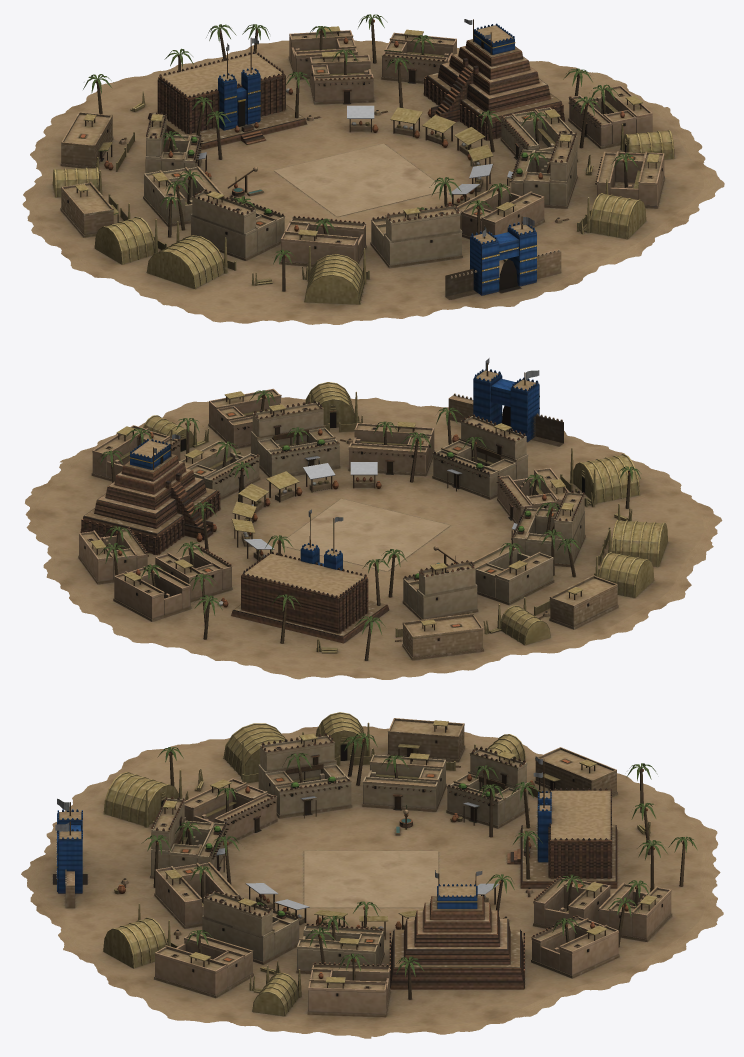
Rendered from classical-town-big-b-mesopotamia.glb.
3 renders of one model, top to bottom at view 1: azimuth 30°, elevation 25°; view 2: azimuth 150°, elevation 25°; view 3: azimuth 270°, elevation 25°, orthographic. The views are drawn at different scales.
Parts seen in each view (by area): view 1: LOD0; view 2: LOD0; view 3: LOD0.
Part boxes in pixels (left/top/right/bottom): LOD0: left=22, top=14, right=724, bottom=324; LOD0: left=25, top=358, right=722, bottom=679; LOD0: left=21, top=712, right=723, bottom=1038.
Size of what is drawn, in the model's own units: 7.93 by 1.12 by 7.49.
3 materials, 3 textured.
